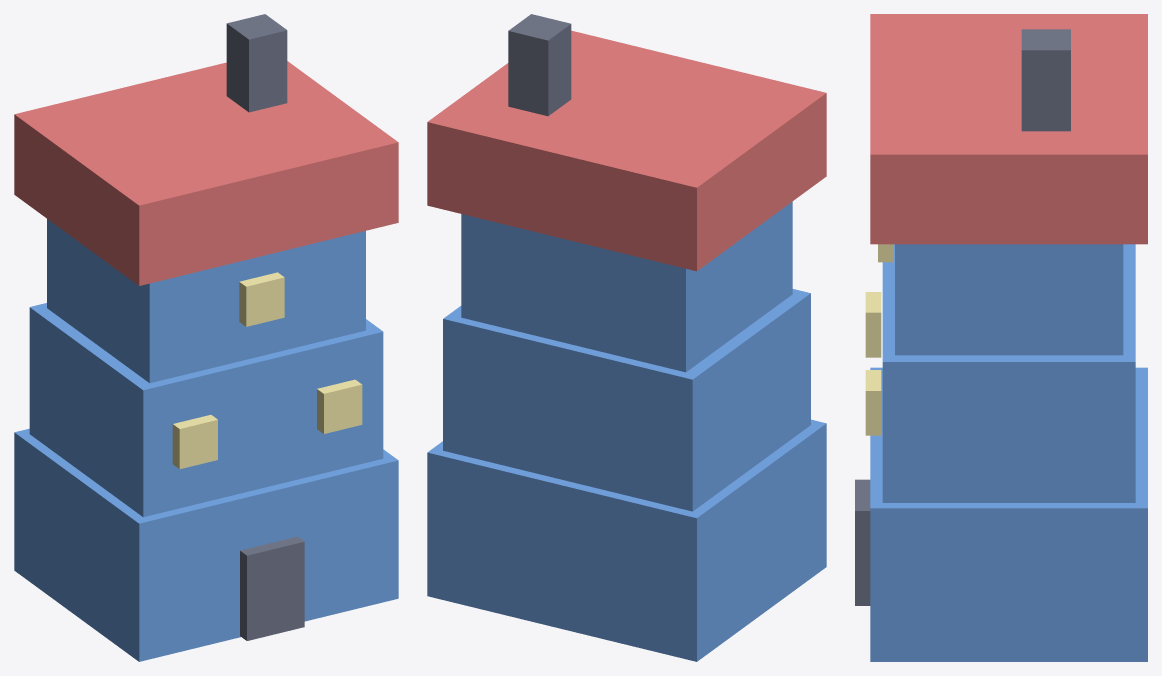
Rendered from house_lv3.gltf.
3 views of the same model, side by side, from view 1: azimuth 30°, elevation 25°; view 2: azimuth 150°, elevation 25°; view 3: azimuth 270°, elevation 25° (orthographic). The views are drawn at different scales.
Visible parts, largest first — view 1: Roof, L1, L2, L3, Door, Chimney, W2, W3, W1; view 2: Roof, L1, L2, L3, Chimney; view 3: Roof, L1, L2, L3, Chimney, Door, W1, W2.
Part boxes in pixels (<box>): Roof: <box>14,61,398,285</box>; L1: <box>14,428,398,661</box>; L2: <box>29,303,383,517</box>; L3: <box>47,219,365,383</box>; Door: <box>240,536,304,640</box>; Chimney: <box>226,14,287,112</box>; W2: <box>317,379,362,433</box>; W3: <box>239,272,284,326</box>; W1: <box>172,415,217,469</box>; Roof: <box>427,30,826,271</box>; L1: <box>427,419,826,661</box>; L2: <box>443,289,810,511</box>; L3: <box>461,201,792,372</box>; Chimney: <box>508,14,571,116</box>; Roof: <box>870,14,1147,244</box>; L1: <box>870,367,1147,661</box>; L2: <box>882,244,1135,502</box>; L3: <box>895,244,1123,355</box>; Chimney: <box>1021,29,1070,131</box>; Door: <box>855,479,870,605</box>; W1: <box>865,292,881,357</box>; W2: <box>865,370,881,435</box>.
Bounding box in the file's own units: 1.08 × 2.11 × 0.95.
